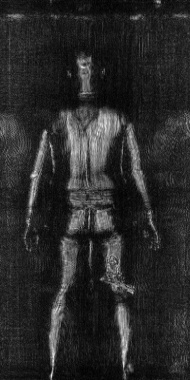gun: (101, 261, 140, 298)
